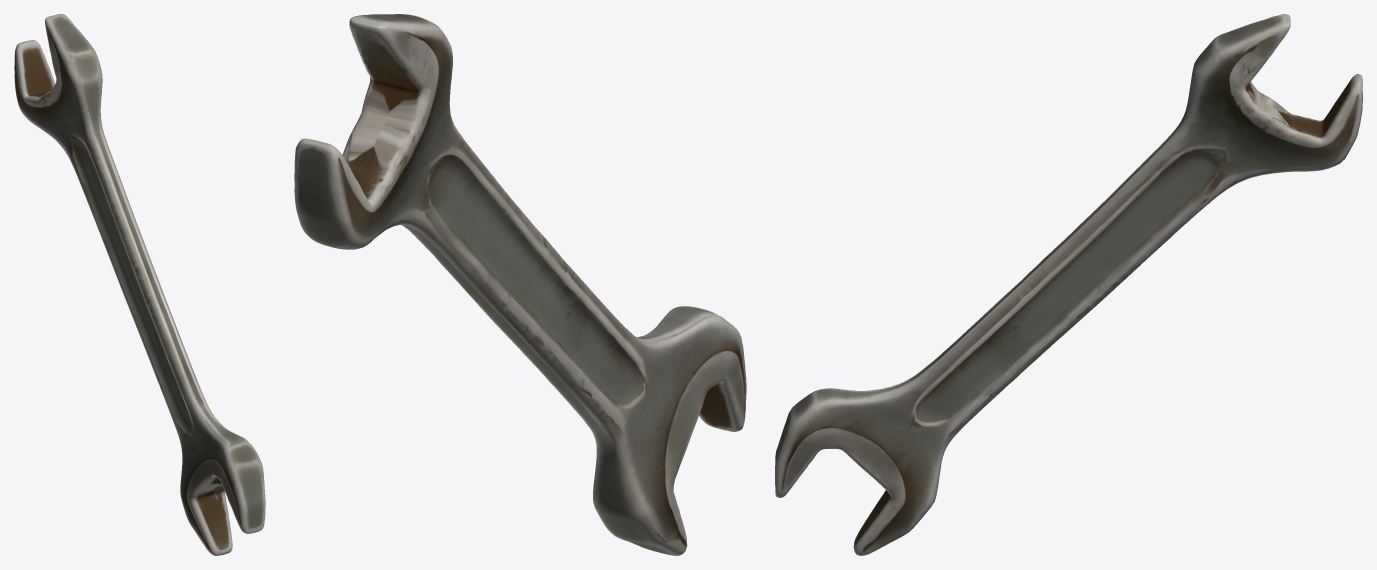
File: lod_basic_pbr.fbx
3 renders of one model, left to right at view 1: azimuth 30°, elevation 25°; view 2: azimuth 150°, elevation 25°; view 3: azimuth 270°, elevation 25°, orthographic. The views are drawn at different scales.
Visible parts, largest first — view 1: model_LOD0; view 2: model_LOD0; view 3: model_LOD0.
Boxes of the visible parts, x1=… form: model_LOD0: x1=14, y1=14, x2=265, y2=555; model_LOD0: x1=294, y1=14, x2=746, y2=555; model_LOD0: x1=775, y1=14, x2=1362, y2=555.
Size of what is drawn, in the model's own units: 16.62 by 190 by 190.
1 material, 1 textured.
